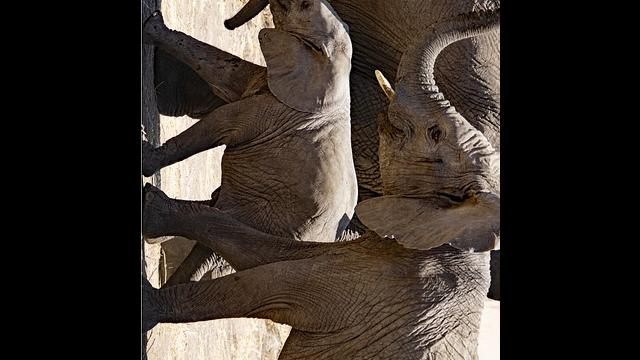Non_Gorille: (162, 0, 491, 360)
